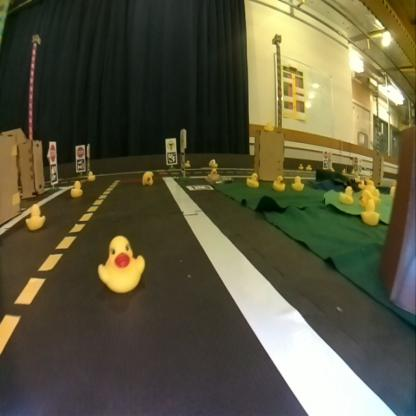Duckie: (98, 236, 144, 292), (360, 200, 379, 225), (26, 204, 44, 228), (339, 184, 353, 204), (272, 175, 285, 190), (291, 175, 303, 190), (246, 172, 258, 186), (70, 181, 81, 195), (142, 170, 153, 184), (208, 169, 218, 179), (87, 171, 94, 180), (185, 160, 190, 166)
Intersection sign: (166, 139, 174, 151)
QR code: (186, 184, 212, 190), (50, 163, 57, 183), (166, 151, 176, 164), (76, 158, 85, 169)
Stop sign: (74, 145, 84, 157), (50, 142, 56, 160)
